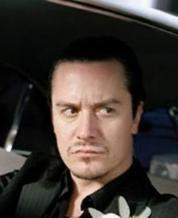face: (56, 100, 116, 161)
